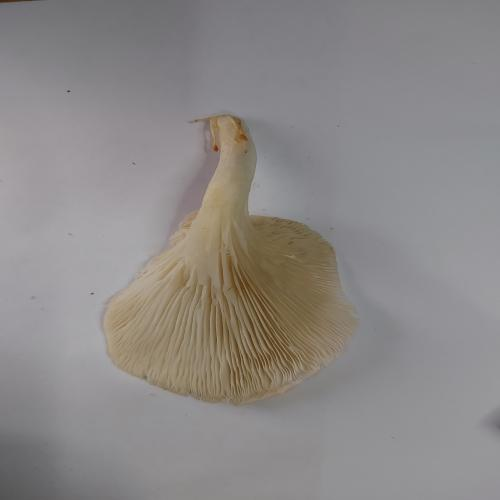Oyster Mushroom: (101, 113, 359, 406)
